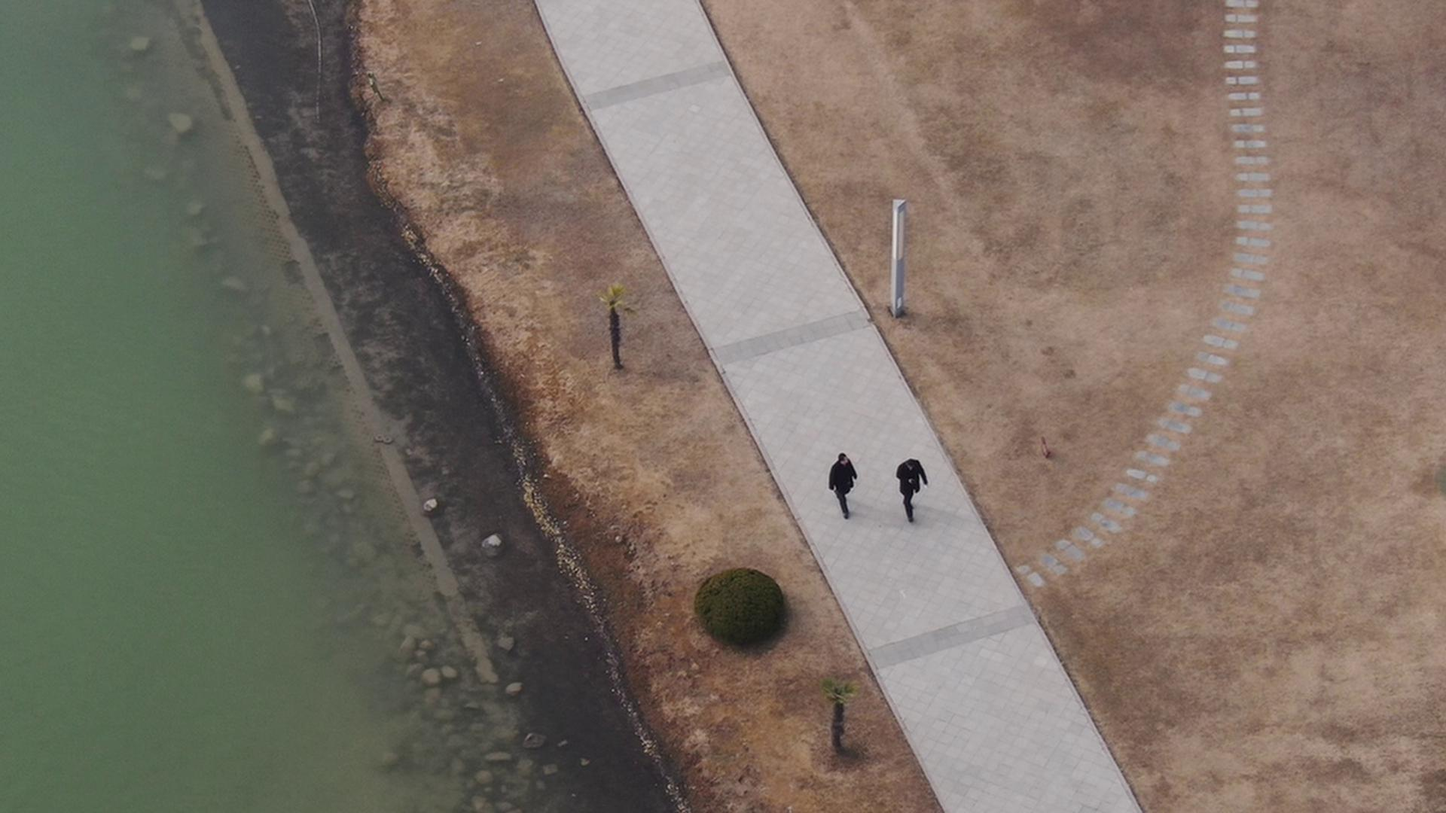human: (812, 452, 856, 523), (883, 458, 930, 520)
